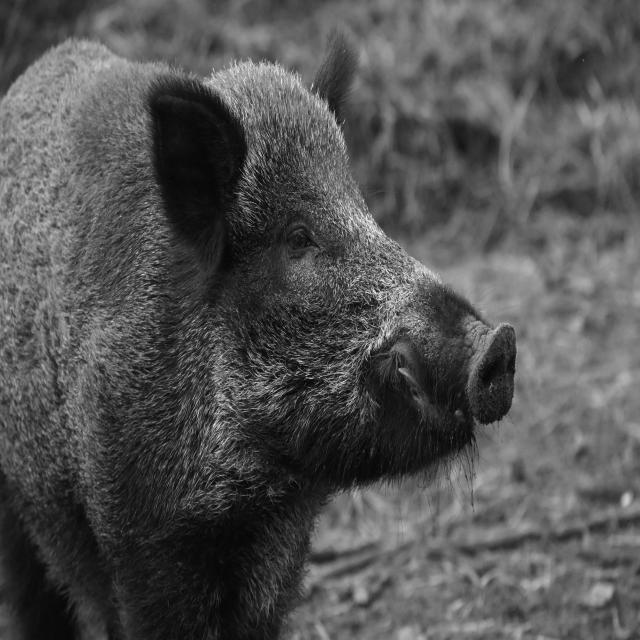Boar: (0, 42, 525, 640)
